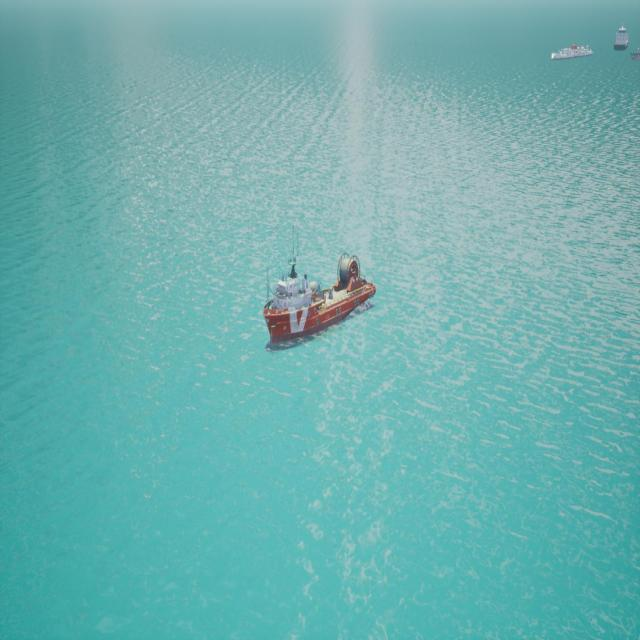tug boat: (264, 251, 377, 351)
